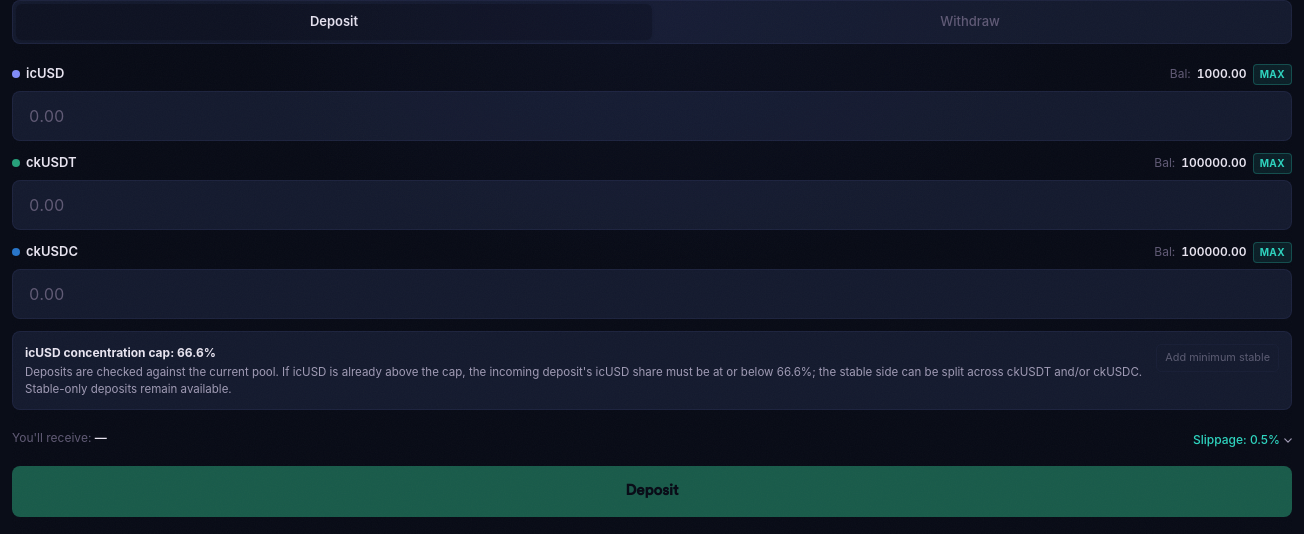
it: LiquidityInterface deposit concentration UX › keeps only the latest quote when replies resolve out of order
Type "1" into the 2nd number field with class "amount-input".
click(652, 204); type("1")  # box [12,180,1292,230]
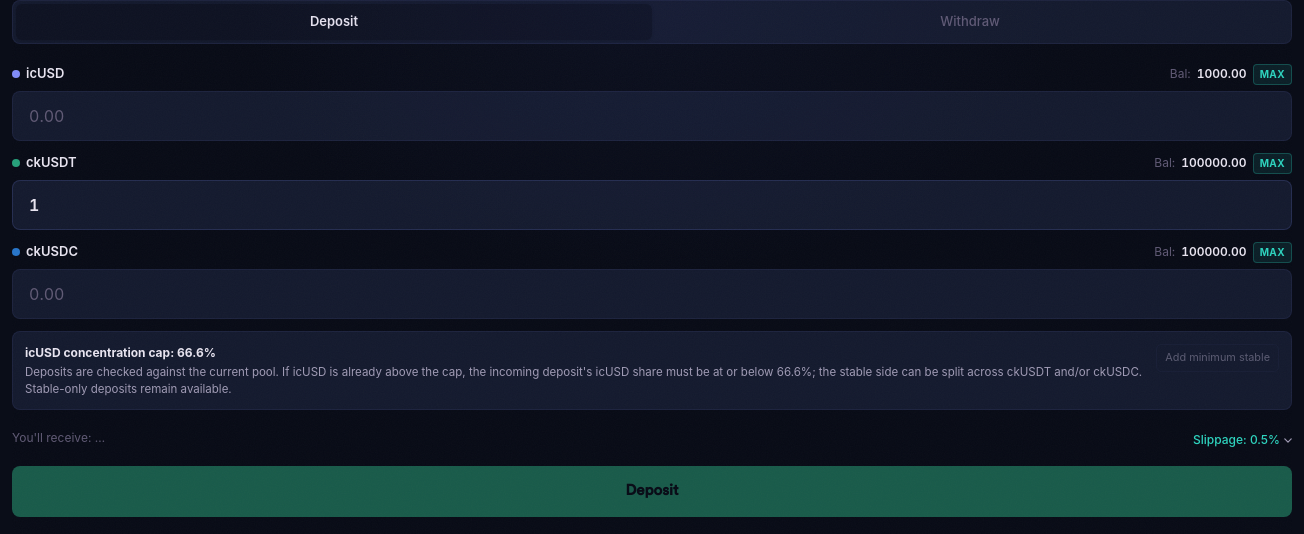
Replace the text in the 2nd number field with class "amount-input" with "2" at [652, 204], box [12,180,1292,230]
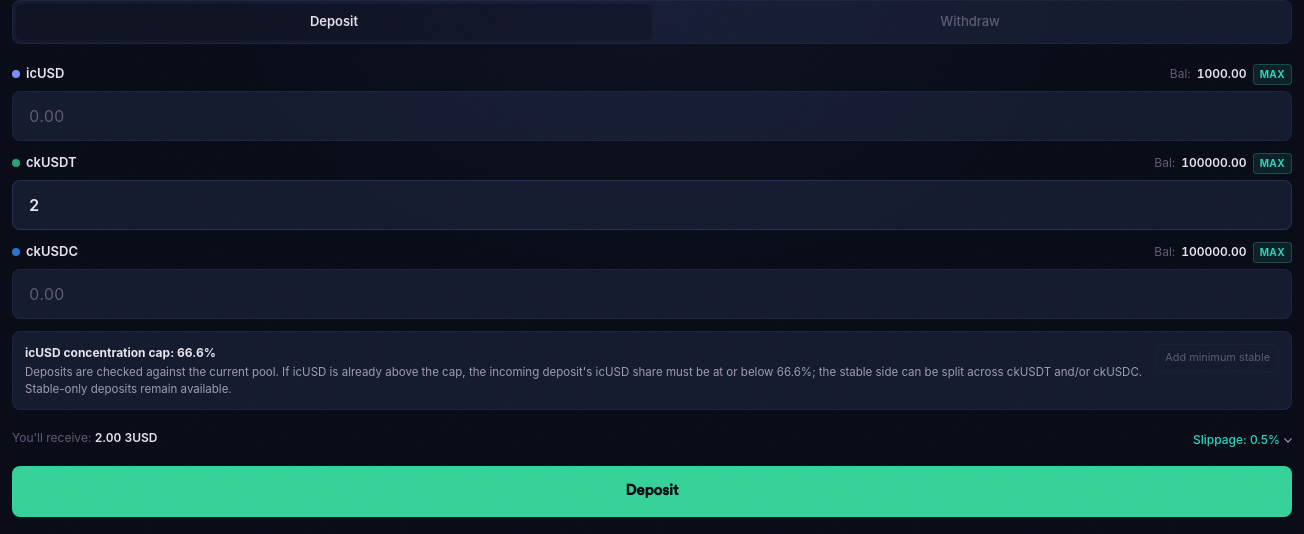
Result: the text "2.00 3USD" is shown at [95,430,158,448]
Result: the button with class "submit-btn" is enabled at [12,466,1292,517]
